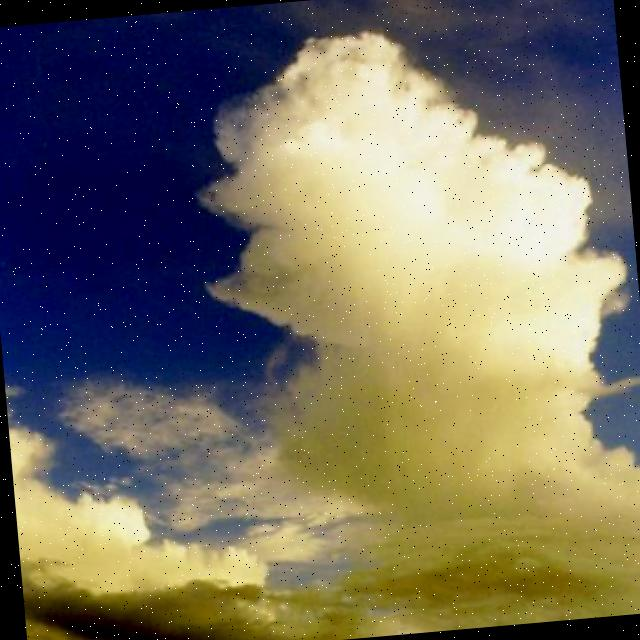Cb: (171, 1, 640, 586)
